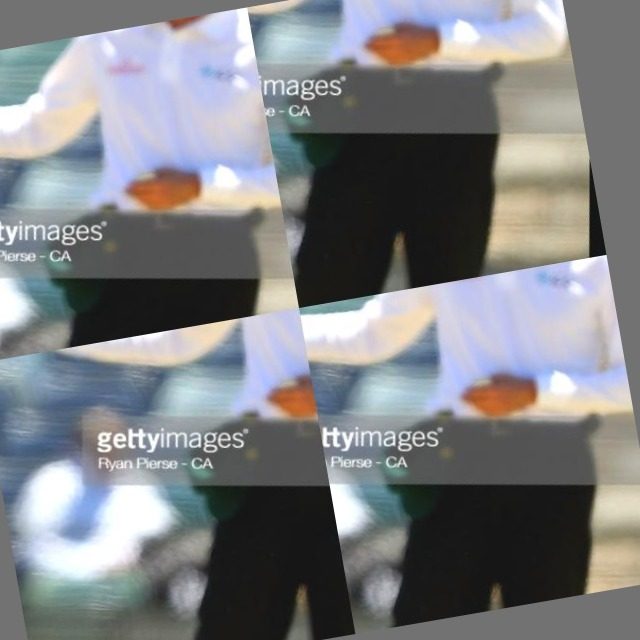No_Action: (247, 0, 439, 160), (0, 47, 46, 233)
No_Ball: (299, 255, 640, 634), (0, 308, 355, 640)
